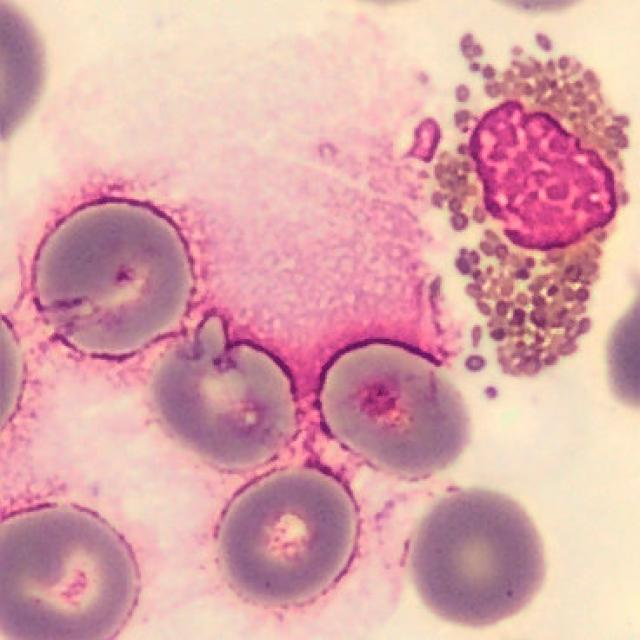Restos celulares: (409, 57, 630, 375)
